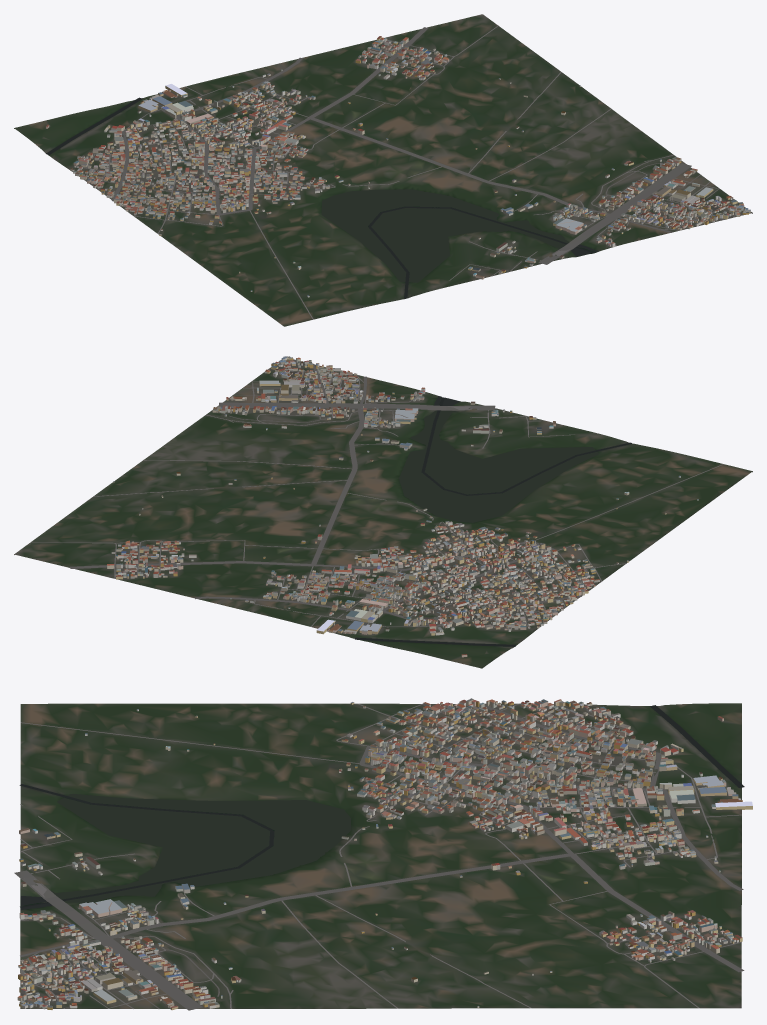
3 views of the same model, one above another, from view 1: azimuth 30°, elevation 25°; view 2: azimuth 150°, elevation 25°; view 3: azimuth 270°, elevation 25° (orthographic). The views are drawn at different scales.
Parts seen in each view (by area): view 1: ground, buildings, water, roads; view 2: ground, buildings, water, roads; view 3: ground, buildings, water, roads.
Part boxes in pixels (x1,y1,x2,y2): ground: [14, 14, 752, 326]; buildings: [46, 36, 750, 297]; water: [46, 97, 598, 298]; roads: [83, 25, 742, 319]; ground: [14, 359, 752, 668]; buildings: [107, 356, 698, 657]; water: [355, 396, 631, 646]; roads: [30, 359, 723, 627]; ground: [20, 703, 741, 1008]; buildings: [17, 698, 752, 1010]; water: [19, 705, 744, 910]; roads: [14, 703, 744, 1010].
Bounding box in the file's own units: 1415 × 24.8 × 1436.
